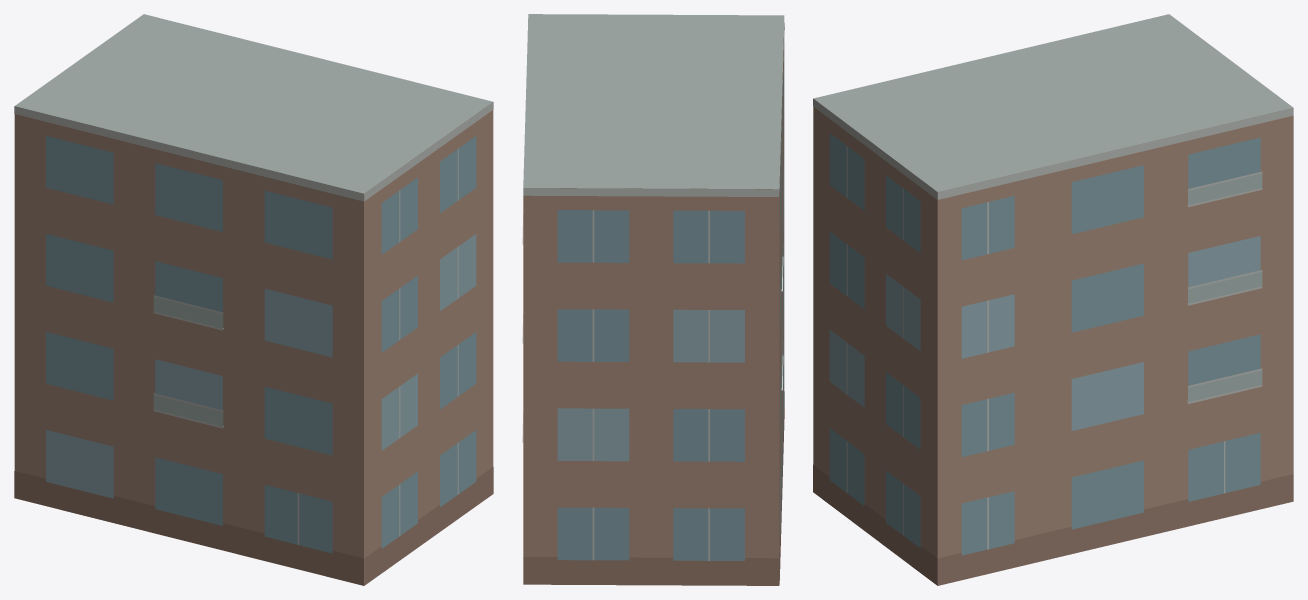
File: residential-c1a19b74-2d70-4da9-8e93-d8af4c4d363a.glb
3 views of the same model, side by side, from view 1: azimuth 30°, elevation 25°; view 2: azimuth 150°, elevation 25°; view 3: azimuth 270°, elevation 25° (orthographic).
Parts seen in each view (by area): view 1: residential-c1a19b74-2d70-4da9-8e93-d8af4c4d363a.tmp; view 2: residential-c1a19b74-2d70-4da9-8e93-d8af4c4d363a.tmp; view 3: residential-c1a19b74-2d70-4da9-8e93-d8af4c4d363a.tmp.
Part boxes in pixels (x1=…): residential-c1a19b74-2d70-4da9-8e93-d8af4c4d363a.tmp: x1=14, y1=14, x2=493, y2=585; residential-c1a19b74-2d70-4da9-8e93-d8af4c4d363a.tmp: x1=522, y1=14, x2=784, y2=585; residential-c1a19b74-2d70-4da9-8e93-d8af4c4d363a.tmp: x1=813, y1=14, x2=1293, y2=585.
Bounding box in the file's own units: 11.85 × 12.2 × 13.5.
